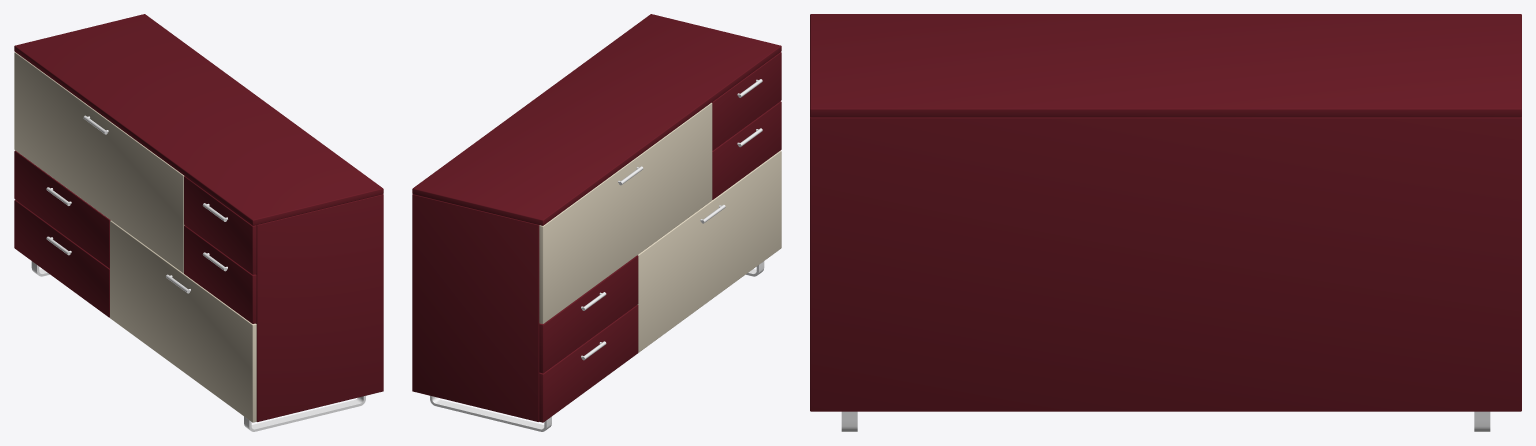
File: recAfKGRuzPh21lzn.glb
3 views of the same model, side by side, from view 1: azimuth 30°, elevation 25°; view 2: azimuth 150°, elevation 25°; view 3: azimuth 270°, elevation 25° (orthographic). The views are drawn at different scales.
Parts seen in each view (by area): view 1: Buffet_Dessus, Buffet_Caisson, Buffet, Buffet_Abattant_Haut, Buffet_Abattant_Bas, Buffet_Pieds_Luge; view 2: Buffet_Dessus, Buffet_Caisson, Buffet_Abattant_Haut, Buffet, Buffet_Abattant_Bas, Buffet_Pieds_Luge; view 3: Buffet_Caisson, Buffet_Dessus, Buffet_Pieds_Luge.
Part boxes in pixels (x1,y1,x2,y2): Buffet_Dessus: [14, 14, 383, 225]; Buffet_Caisson: [256, 194, 383, 421]; Buffet: [14, 150, 256, 323]; Buffet_Abattant_Haut: [14, 52, 184, 273]; Buffet_Abattant_Bas: [110, 220, 256, 422]; Buffet_Pieds_Luge: [31, 261, 365, 431]; Buffet_Dessus: [412, 14, 781, 225]; Buffet_Caisson: [412, 194, 539, 421]; Buffet_Abattant_Haut: [539, 102, 712, 323]; Buffet: [539, 52, 781, 422]; Buffet_Abattant_Bas: [637, 150, 781, 352]; Buffet_Pieds_Luge: [430, 261, 764, 431]; Buffet_Caisson: [810, 117, 1521, 411]; Buffet_Dessus: [810, 14, 1521, 117]; Buffet_Pieds_Luge: [841, 411, 1490, 431].
Size of the model in its own units: 0.591 by 0.9251 by 1.8.
